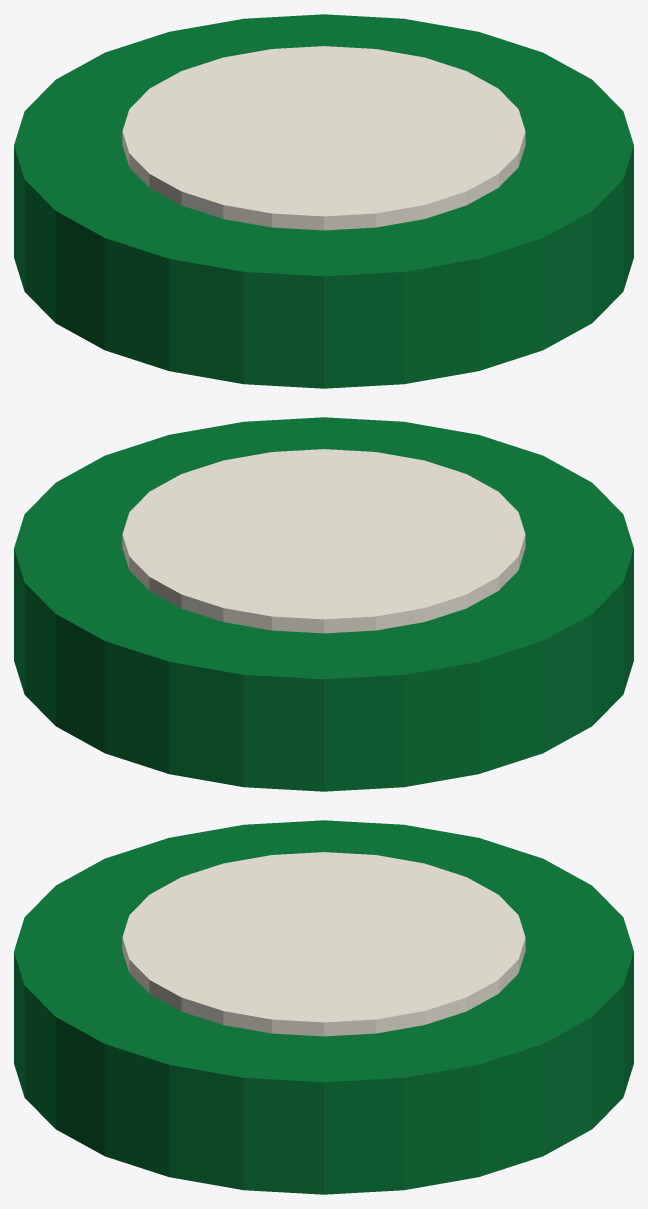
File: Item_OR_Chip_22.glb
3 renders of one model, top to bottom at view 1: azimuth 30°, elevation 25°; view 2: azimuth 150°, elevation 25°; view 3: azimuth 270°, elevation 25°, orthographic.
Visible parts, largest first — view 1: Item_OR_Chip_22; view 2: Item_OR_Chip_22; view 3: Item_OR_Chip_22.
Boxes of the visible parts, bbox=[...] form: Item_OR_Chip_22: bbox=[14, 14, 633, 388]; Item_OR_Chip_22: bbox=[14, 417, 633, 791]; Item_OR_Chip_22: bbox=[14, 820, 633, 1194].
Bounding box in the file's own units: 0.04 × 0.009 × 0.04.
